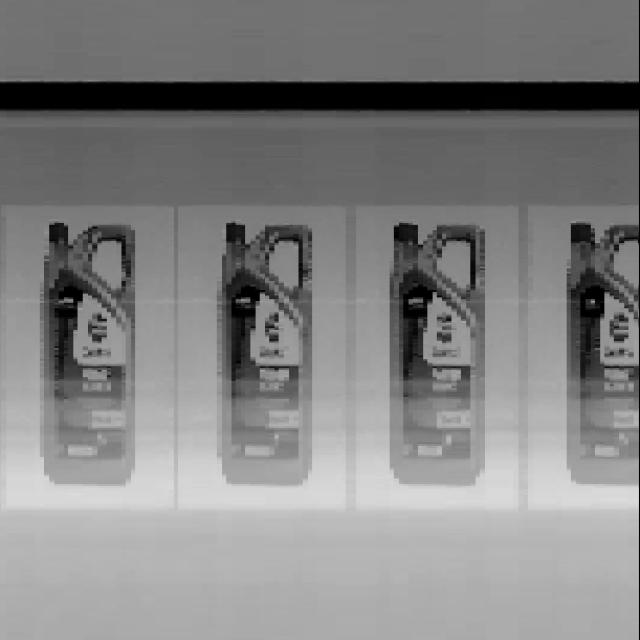motor_oil: (382, 214, 491, 494), (212, 215, 317, 494), (33, 219, 137, 492), (561, 205, 640, 491)
